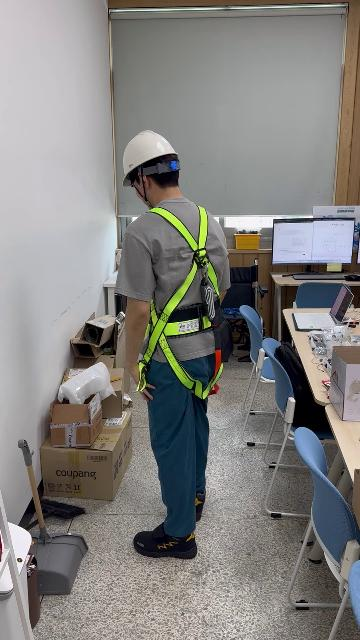helmet_worn: (120, 129, 180, 187)
shoe_worn: (134, 522, 198, 559), (194, 488, 204, 522)
vest_worn: (135, 212, 223, 394)
